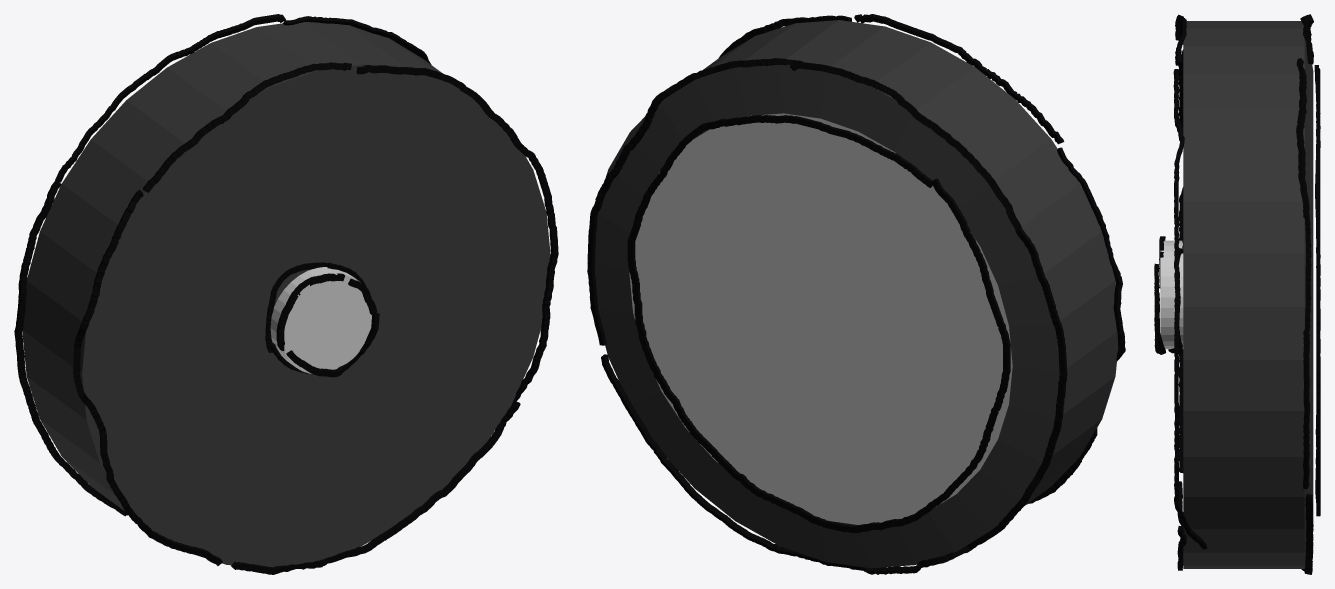
Rendered from wheel.fbx.
3 renders of one model, left to right at view 1: azimuth 30°, elevation 25°; view 2: azimuth 150°, elevation 25°; view 3: azimuth 270°, elevation 25°, orthographic.
Visible parts, largest first — view 1: wheel, GP_Layer, Cylinder.001; view 2: wheel, GP_Layer; view 3: wheel, GP_Layer, Cylinder.001.
Part boxes in pixels (left/top/right/bottom): wheel: left=22, top=22, right=550, bottom=567; GP_Layer: left=14, top=14, right=558, bottom=574; Cylinder.001: left=270, top=267, right=371, bottom=373; wheel: left=594, top=20, right=1118, bottom=568; GP_Layer: left=587, top=14, right=1125, bottom=574; wheel: left=1183, top=21, right=1313, bottom=568; GP_Layer: left=1154, top=14, right=1320, bottom=574; Cylinder.001: left=1160, top=240, right=1183, bottom=349.
Bounding box in the file's own units: 204 × 206 × 60.65.
